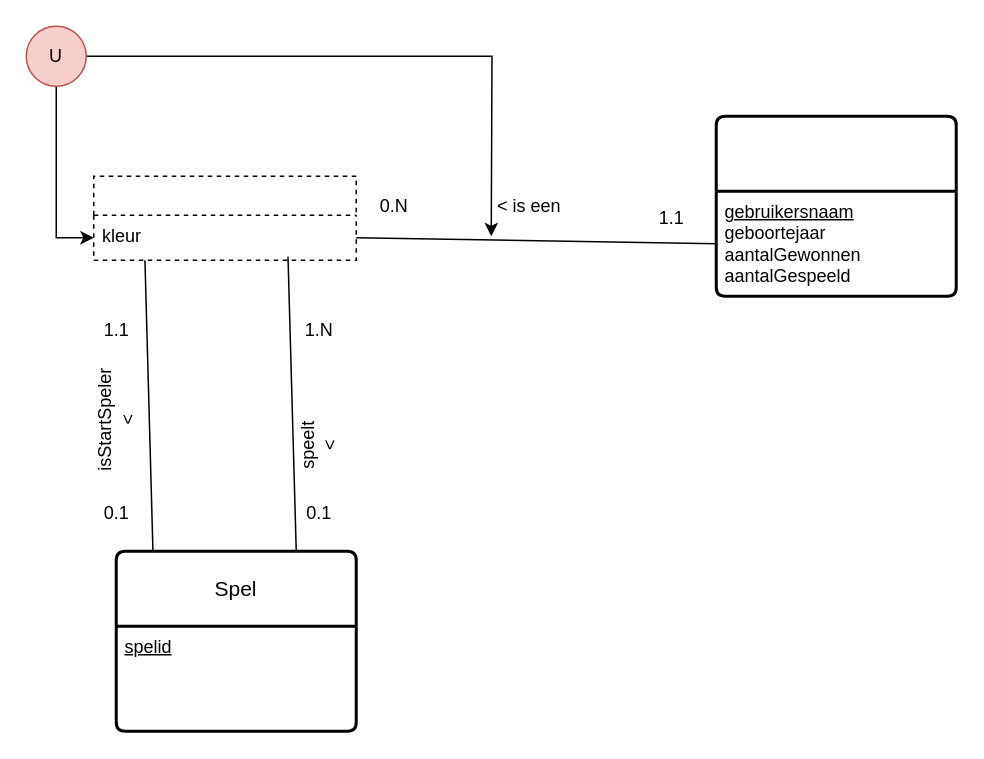
The diagram is 984 pixels wide and 759 high, and some of its shapes have lost their labels. The box of each missing label's shape, as (x1, y1, x2, y2) in pixels:
Deelnemer: (92, 175, 356, 260)
Speler: (714, 114, 957, 297)
